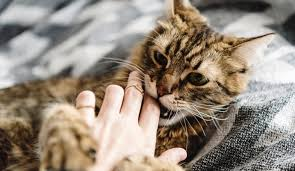Gato: (136, 19, 254, 128)
